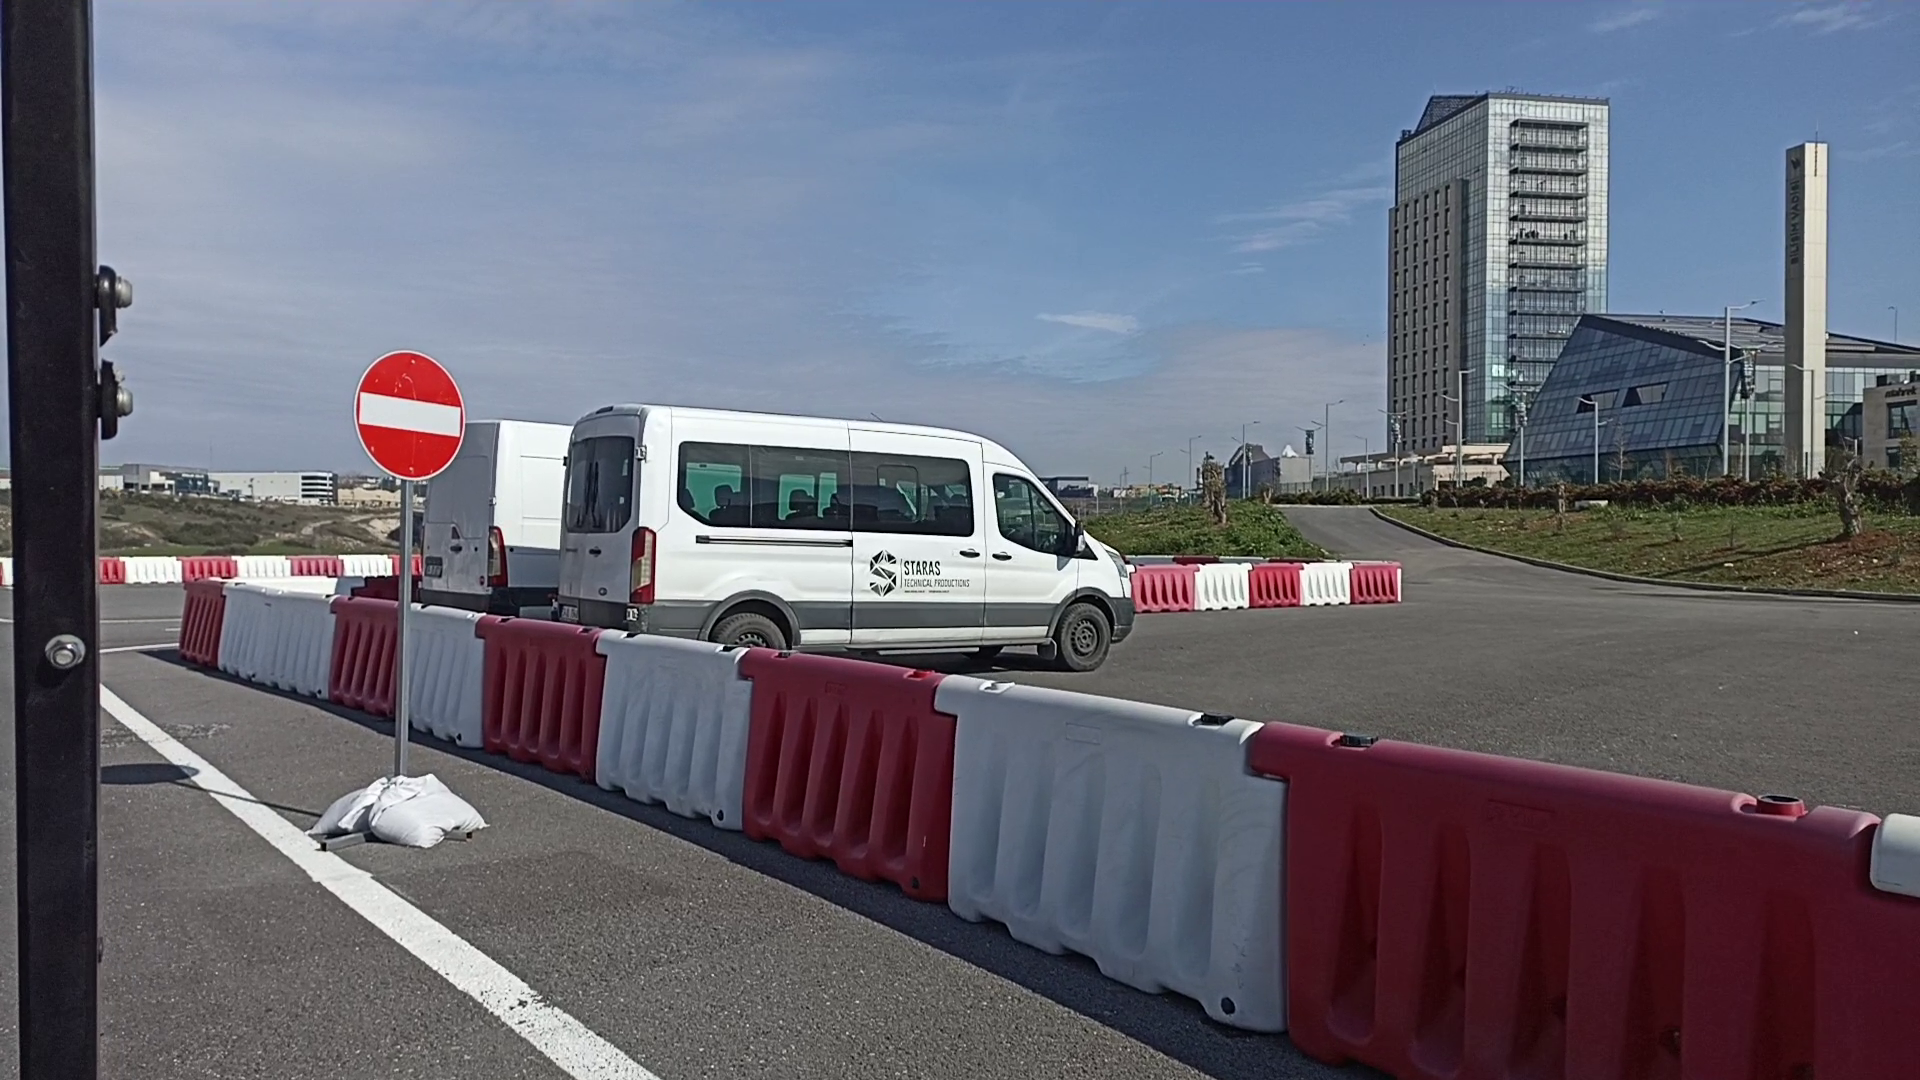noentryway: (351, 347, 468, 483)
